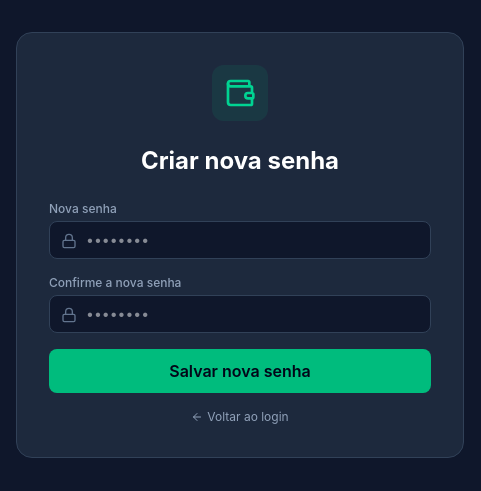
Recuperação de senha › bloqueia o envio quando as senhas não coincidem
The image size is (481, 491).
Type "senha-nova-123" into the password field labelled "Nova senha" at (240, 240), box [49,221,431,259]
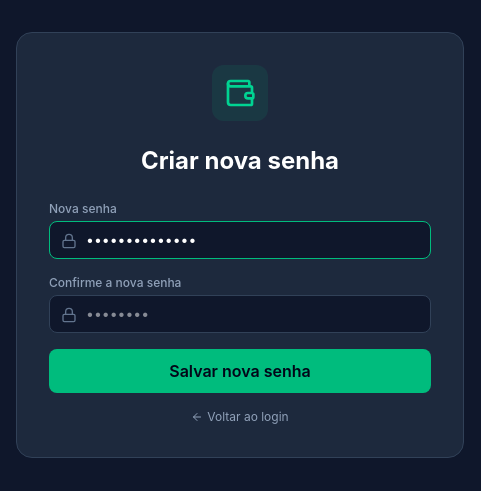
Type "senha-diferente-123" into the password field labelled "Confirme a nova senha" at (240, 314), box [49,295,431,333]
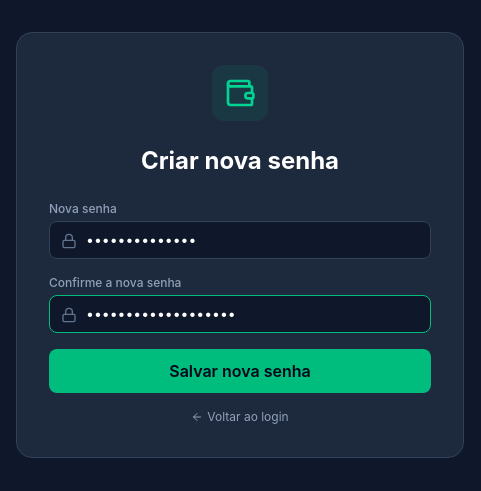
Click the button "Salvar nova senha" at (240, 371), box [49,349,431,393]
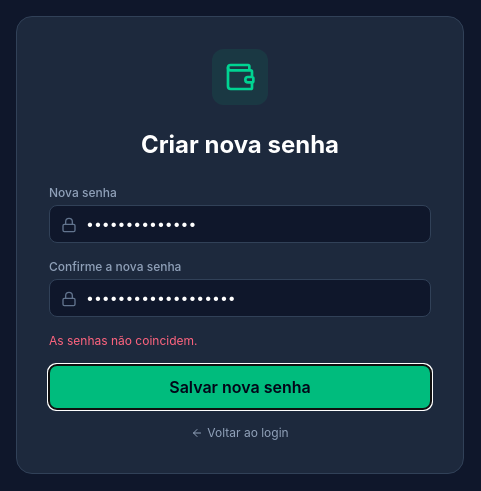
Expected: the message shows "não coincidem", [49,333,198,348]
